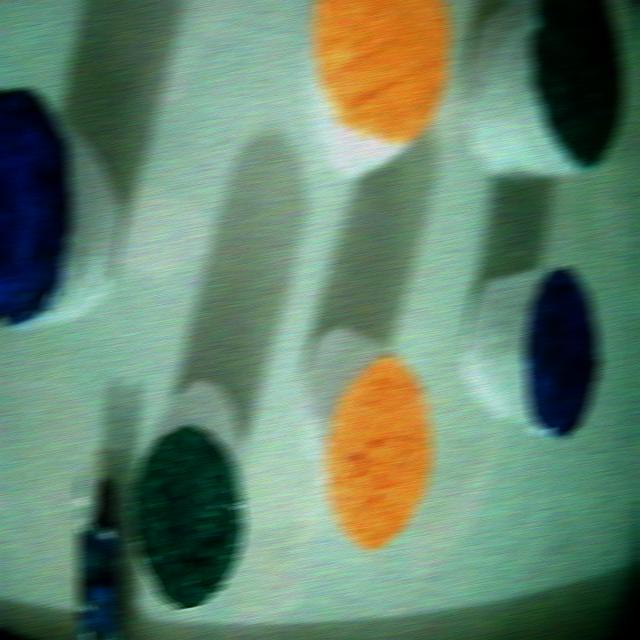blue: (0, 89, 73, 325), (525, 268, 600, 438)
green: (130, 424, 245, 608), (530, 0, 623, 166)
yellow: (324, 354, 432, 548), (311, 0, 450, 143)
